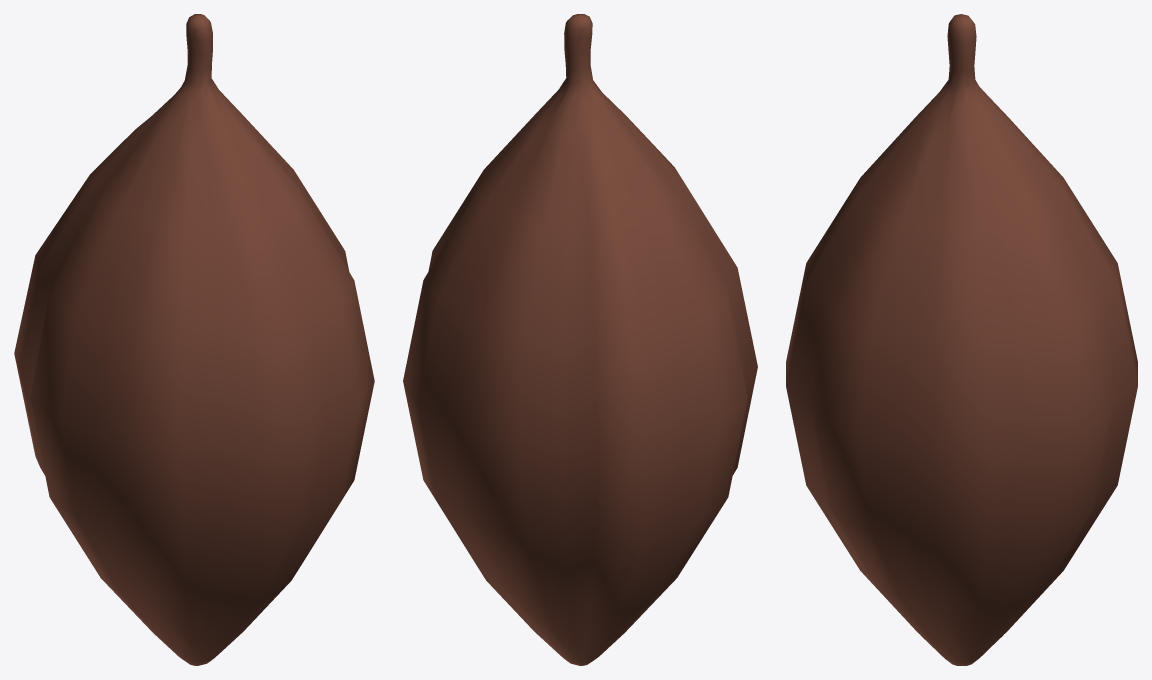
The model's file is cocoa.fbx.
3 renders of one model, left to right at view 1: azimuth 30°, elevation 25°; view 2: azimuth 150°, elevation 25°; view 3: azimuth 270°, elevation 25°, orthographic.
Parts seen in each view (by area): view 1: cocoa; view 2: cocoa; view 3: cocoa.
Boxes of the visible parts, bbox=[...] form: cocoa: bbox=[14, 14, 374, 665]; cocoa: bbox=[403, 14, 757, 665]; cocoa: bbox=[786, 14, 1137, 665].
Size of the model in its own units: 136 by 277 by 136.
